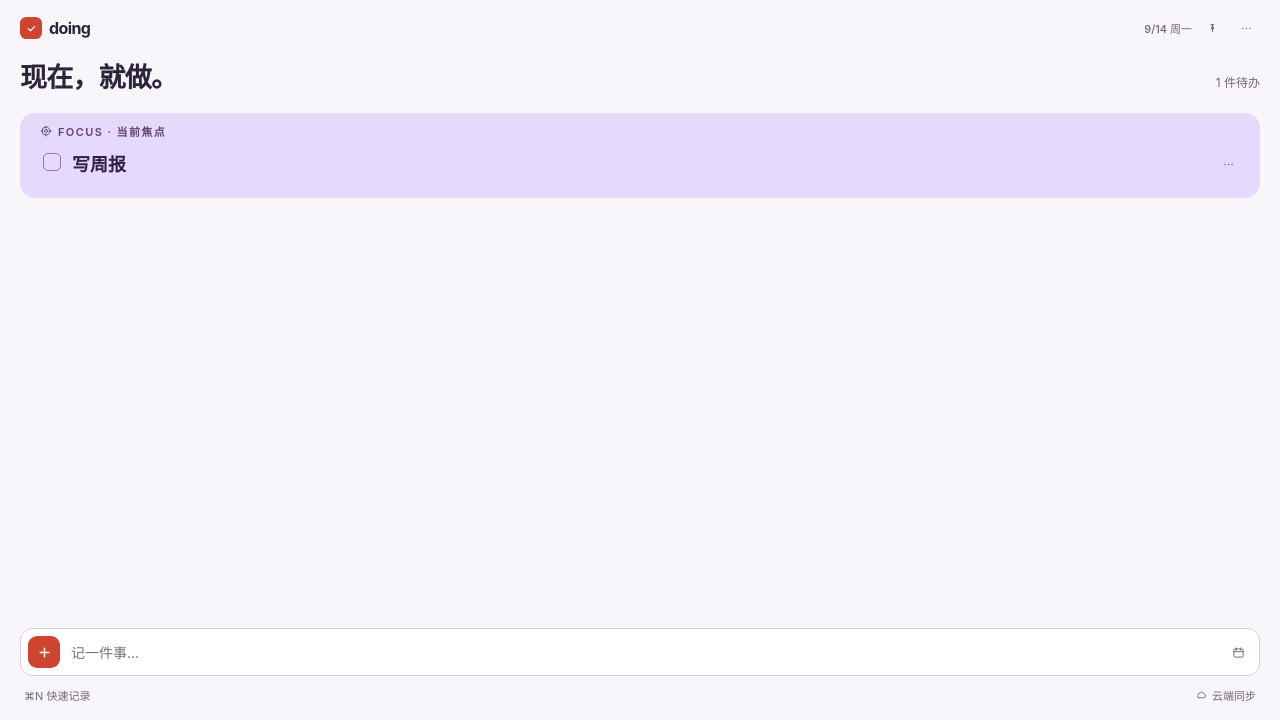
Scenario: 工作区交互（表单与完成动作） › 保存失败时展示错误提示（不清空已输入）
Type "保留我" into the field named "新事项" at (642, 652), box [69, 642, 1215, 662]
Then press Enter
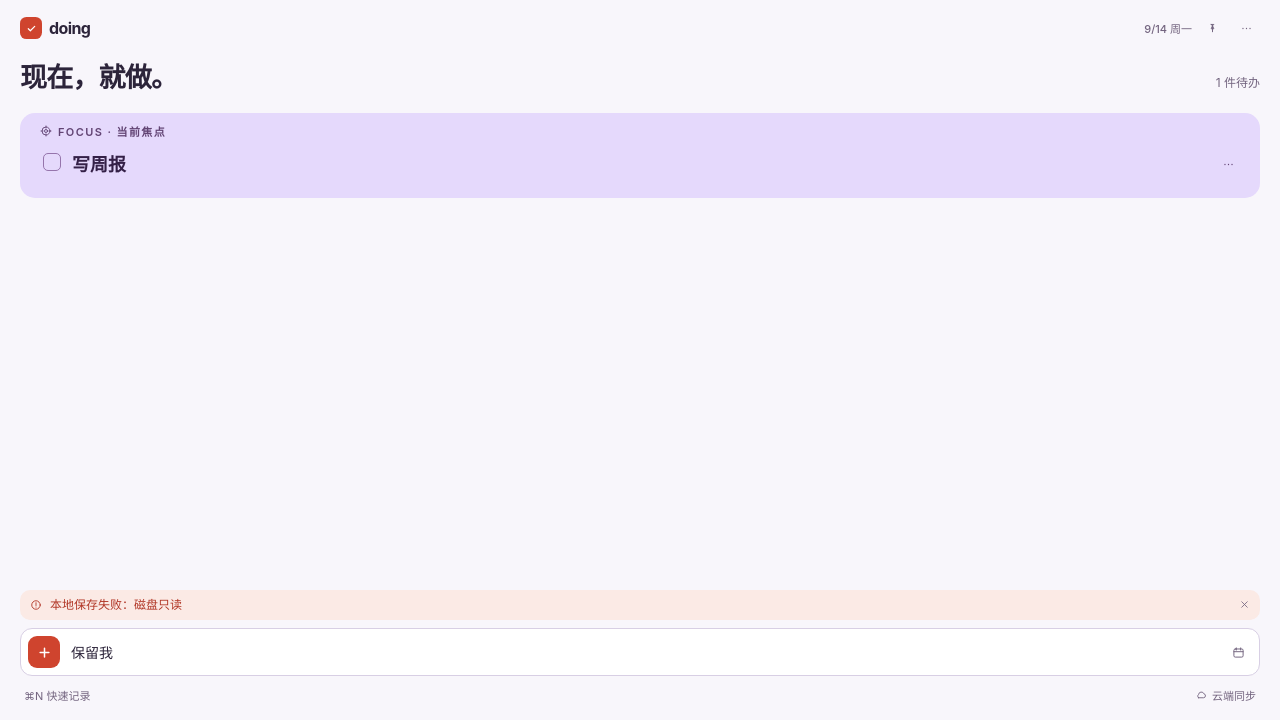
Check: the message reads "本地保存失败：磁盘只读", box [50, 597, 182, 612]
